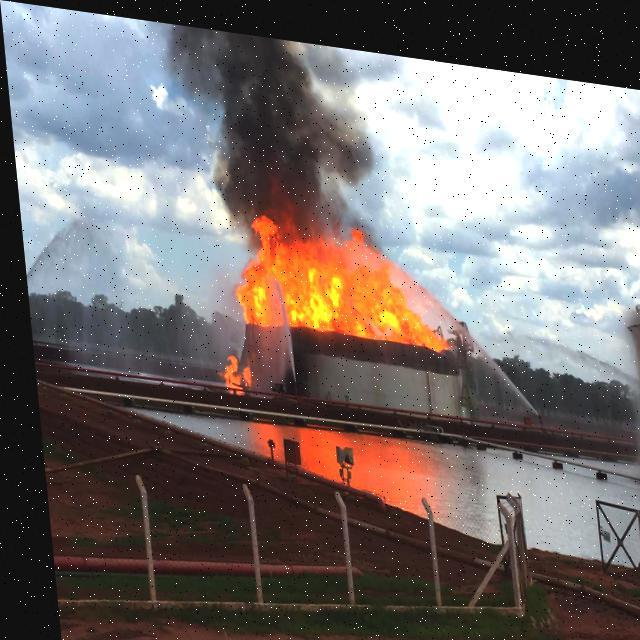Fire: (232, 211, 440, 339), (216, 352, 248, 386)
